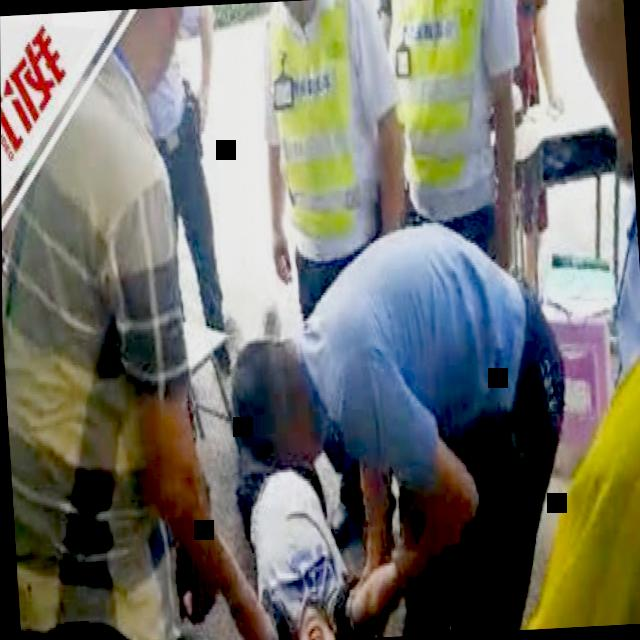Fall-Detected: (213, 405, 389, 640)
